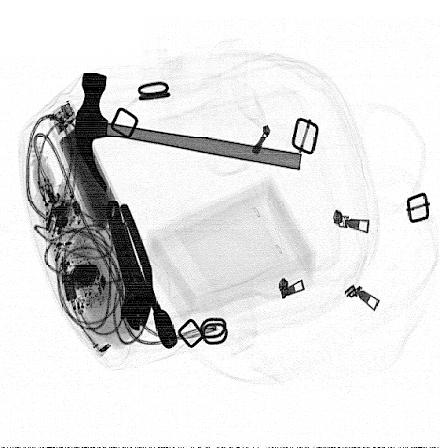Hammer: (72, 72, 302, 192)
Pliers: (116, 203, 178, 350)
Powerbank: (47, 98, 123, 234)
Wrench: (104, 200, 150, 331)
